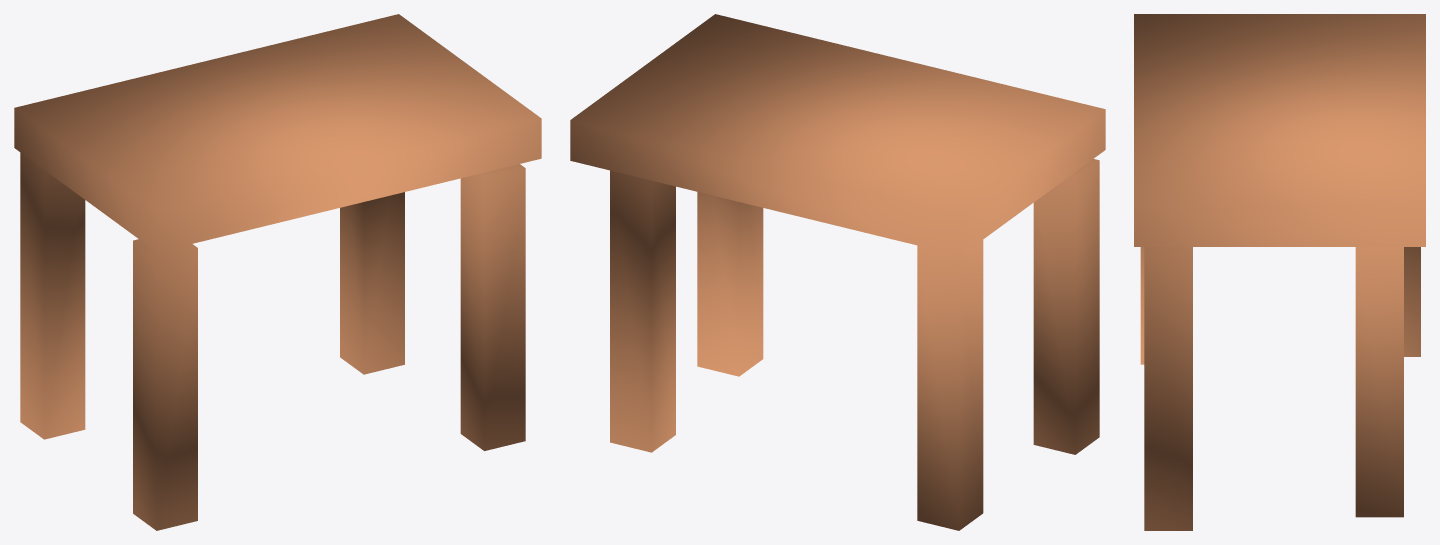
Rendered from ps2_jrpg_royal_banquet_table.obj.
3 views of the same model, side by side, from view 1: azimuth 30°, elevation 25°; view 2: azimuth 150°, elevation 25°; view 3: azimuth 270°, elevation 25° (orthographic). The views are drawn at different scales.
Bounding box in the file's own units: 1.4 × 1.13 × 0.9.
